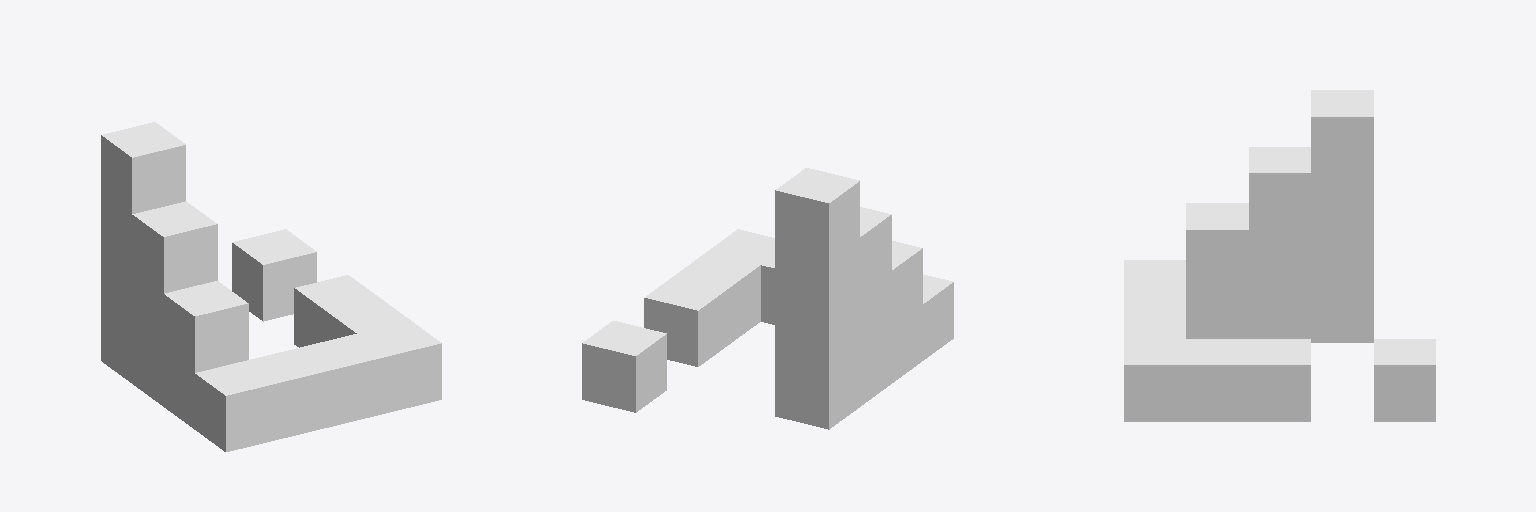
The model's file is blocks3.obj.
The picture shows the model from 3 angles: view 1: azimuth 30°, elevation 25°; view 2: azimuth 150°, elevation 25°; view 3: azimuth 270°, elevation 25°; orthographic projection.
Visible parts, largest first — view 1: object 1; view 2: object 1; view 3: object 1.
Boxes of the visible parts, <box> form: object 1: <box>101,122,441,451</box>; object 1: <box>582,168,953,429</box>; object 1: <box>1124,90,1435,421</box>.
Size of the model in its own units: 0.4 by 0.4 by 0.5.